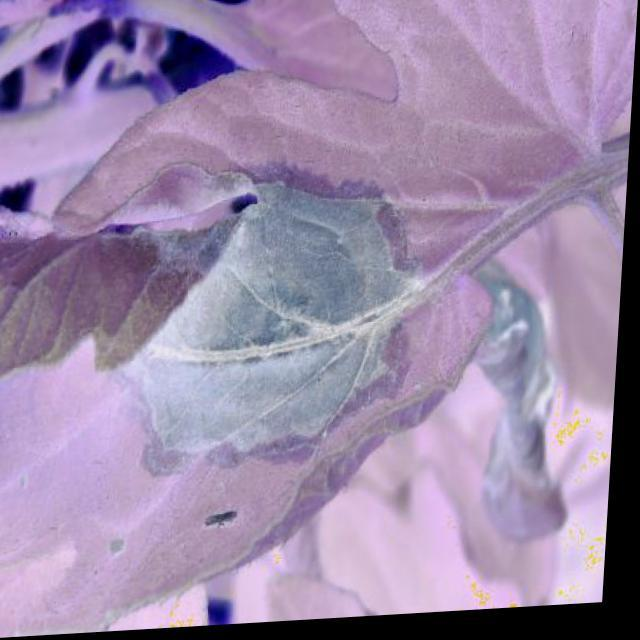Tomato mosaic virus leaf: (0, 0, 630, 629)
